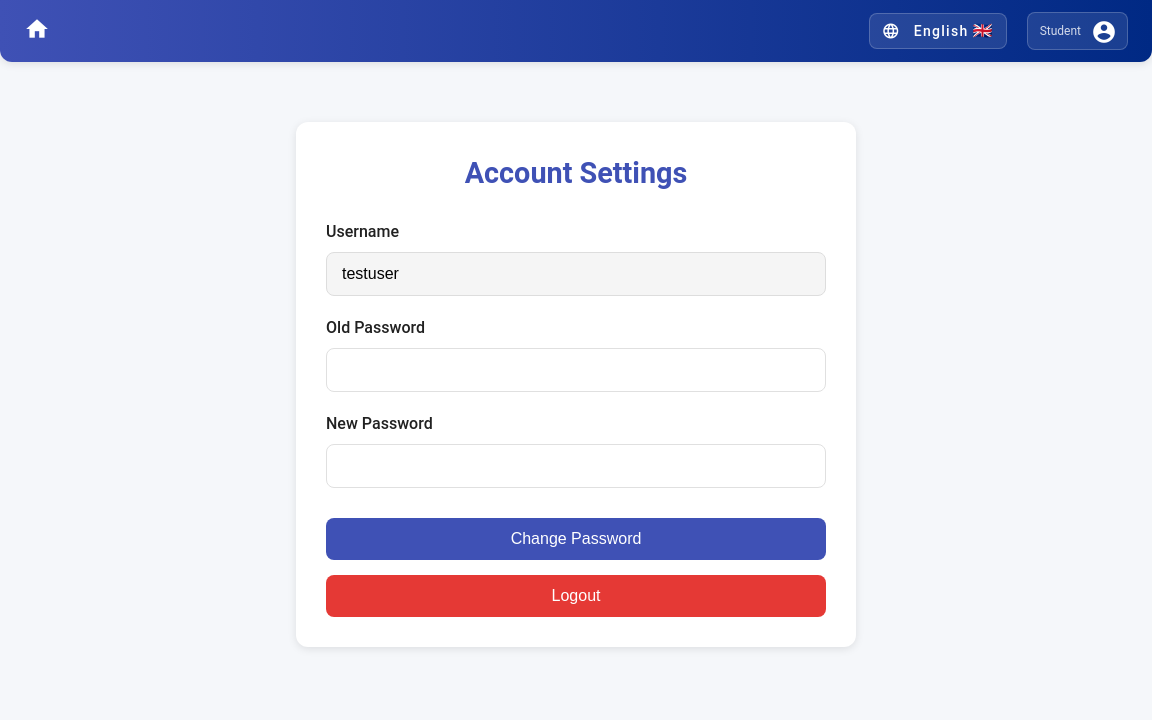
Test: Account Management › should show password requirements when entering new password
Enter a new password
Type "newpassword" into the password field with id "new-password" at x=576, y=466, box [326,444,826,488]
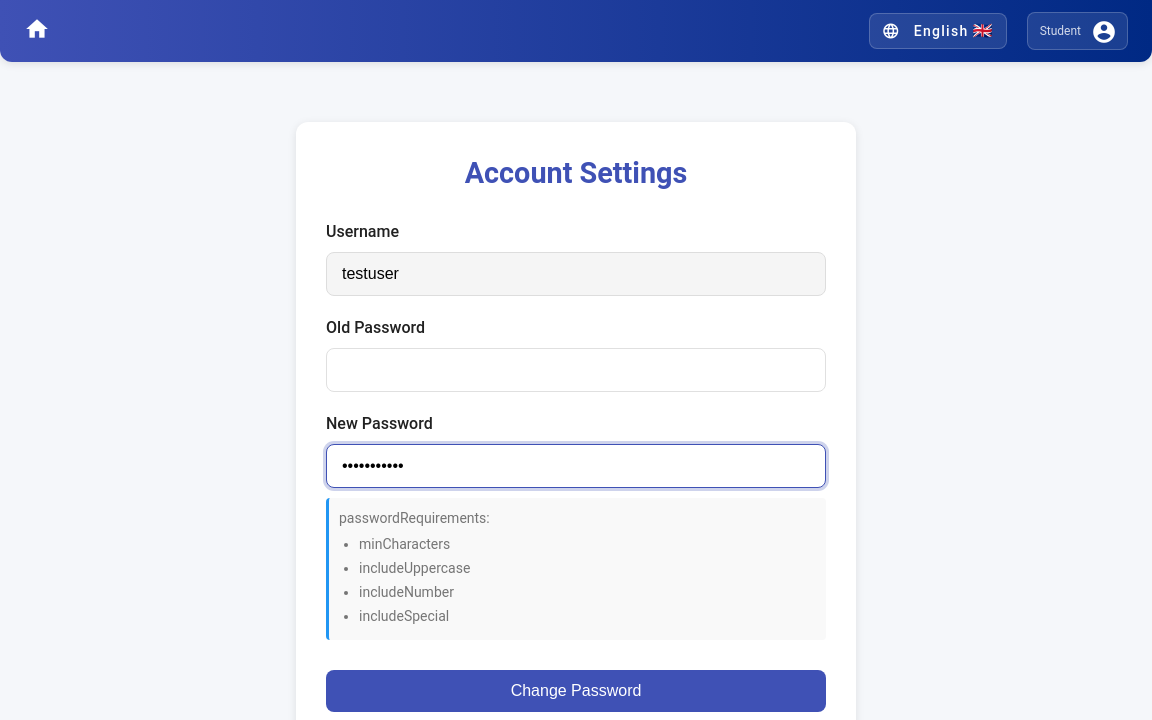
Expected: the element that starts with "passwordRequirements:" is shown, [326,498,826,640]
